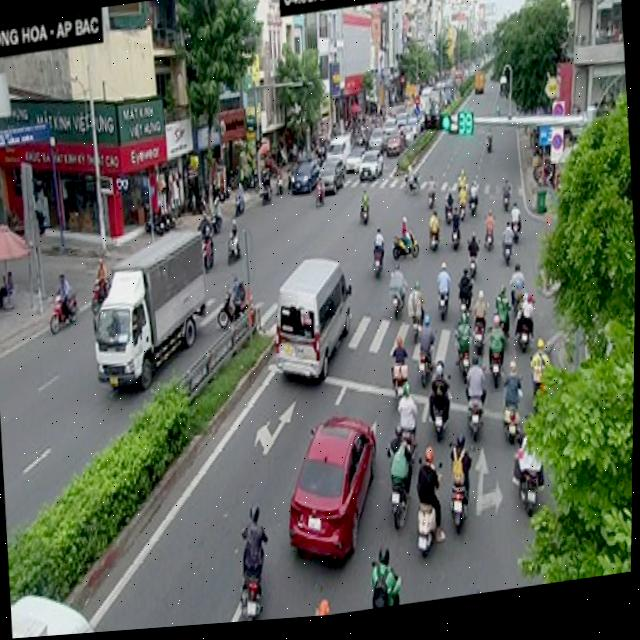Green: (420, 114, 453, 145)
